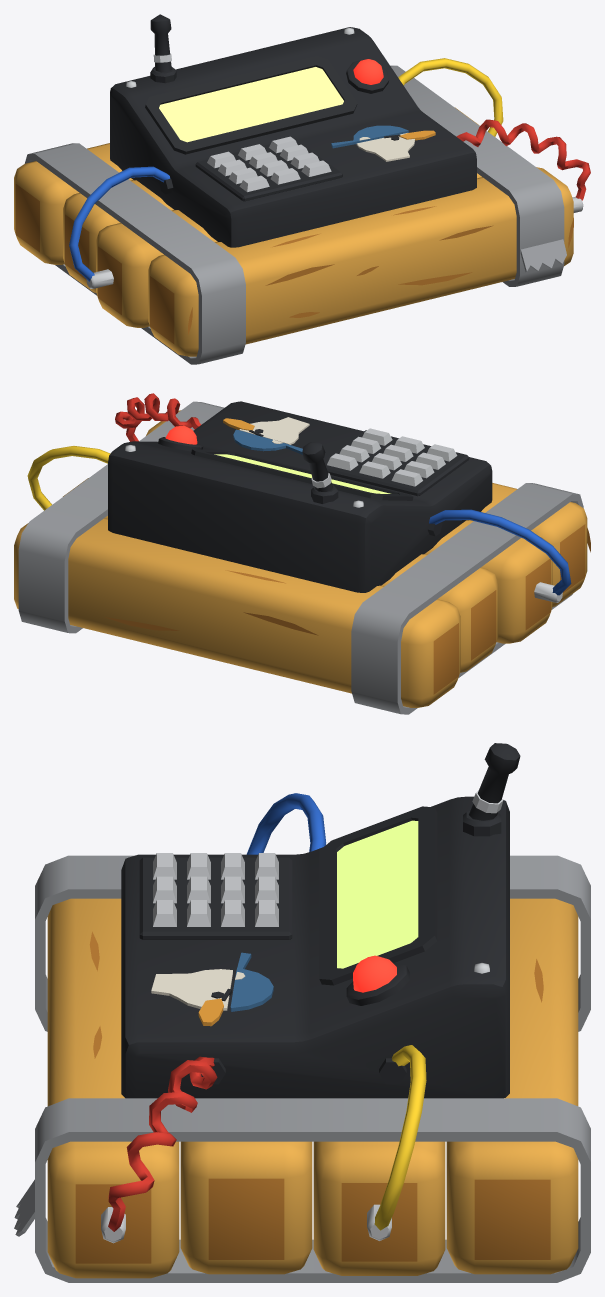
Rendered from bomb.glb.
3 views of the same model, one above another, from view 1: azimuth 30°, elevation 25°; view 2: azimuth 150°, elevation 25°; view 3: azimuth 270°, elevation 25° (orthographic). The views are drawn at different scales.
Parts seen in each view (by area): view 1: Bomb, Bomb_Screen, Bomb_Keypad, Bomb_Antenna, Bomb_LED; view 2: Bomb, Bomb_Keypad, Bomb_Antenna, Bomb_Screen, Bomb_LED; view 3: Bomb, Bomb_Screen, Bomb_Keypad, Bomb_Antenna, Bomb_LED.
Part boxes in pixels (bbox=[...]): Bomb: bbox=[14, 27, 590, 364]; Bomb_Screen: bbox=[159, 67, 343, 142]; Bomb_Keypad: bbox=[207, 136, 331, 192]; Bomb_Antenna: bbox=[150, 14, 176, 83]; Bomb_LED: bbox=[353, 59, 383, 84]; Bomb: bbox=[14, 393, 590, 714]; Bomb_Keypad: bbox=[327, 428, 457, 486]; Bomb_Antenna: bbox=[302, 441, 338, 503]; Bomb_Screen: bbox=[214, 454, 390, 493]; Bomb_LED: bbox=[165, 425, 197, 444]; Bomb: bbox=[14, 793, 590, 1282]; Bomb_Screen: bbox=[337, 820, 418, 968]; Bomb_Keypad: bbox=[153, 853, 278, 926]; Bomb_Antenna: bbox=[463, 743, 520, 836]; Bomb_LED: bbox=[353, 955, 396, 992].
Bounding box in the file's own units: 0.3229 × 0.1434 × 0.2169.
